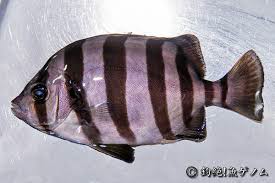azi: (16, 38, 261, 154)
